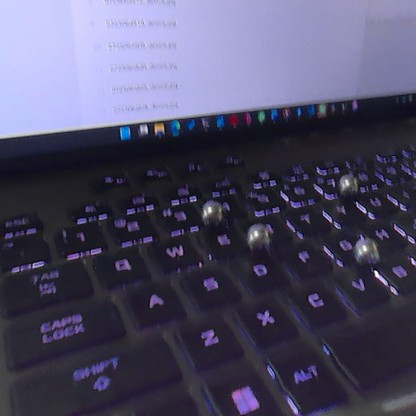ironball: (348, 233, 382, 267), (240, 221, 273, 253), (196, 198, 223, 226), (334, 170, 359, 195)
